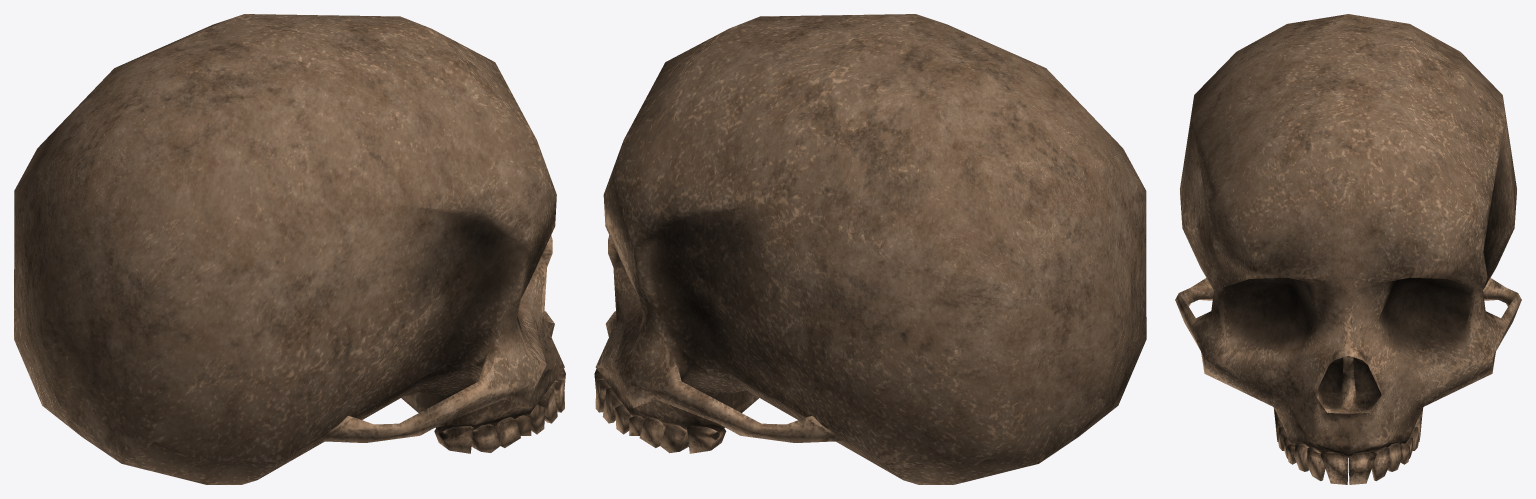
File: skull.dae
3 renders of one model, left to right at view 1: azimuth 30°, elevation 25°; view 2: azimuth 150°, elevation 25°; view 3: azimuth 270°, elevation 25°, orthographic. The views are drawn at different scales.
Visible parts, largest first — view 1: Group9132, Group9252, Group9237; view 2: Group9132, Group9342, Group9267; view 3: Group9132 (×2), Group9357, Group9297, Group9222, Group9327.
Part boxes in pixels (x1,y1,x2,y2): Group9132: (14, 14, 564, 484); Group9252: (434, 426, 473, 453); Group9237: (471, 424, 500, 452); Group9132: (595, 14, 1146, 484); Group9342: (687, 426, 726, 453); Group9267: (660, 424, 688, 453); Group9132 (×2): (1175, 14, 1521, 457); Group9357: (1320, 451, 1348, 484); Group9297: (1349, 451, 1376, 484); Group9222: (1306, 446, 1325, 480); Group9327: (1371, 446, 1390, 480).
Size of the model in its own units: 10.61 by 7.77 by 8.37.
